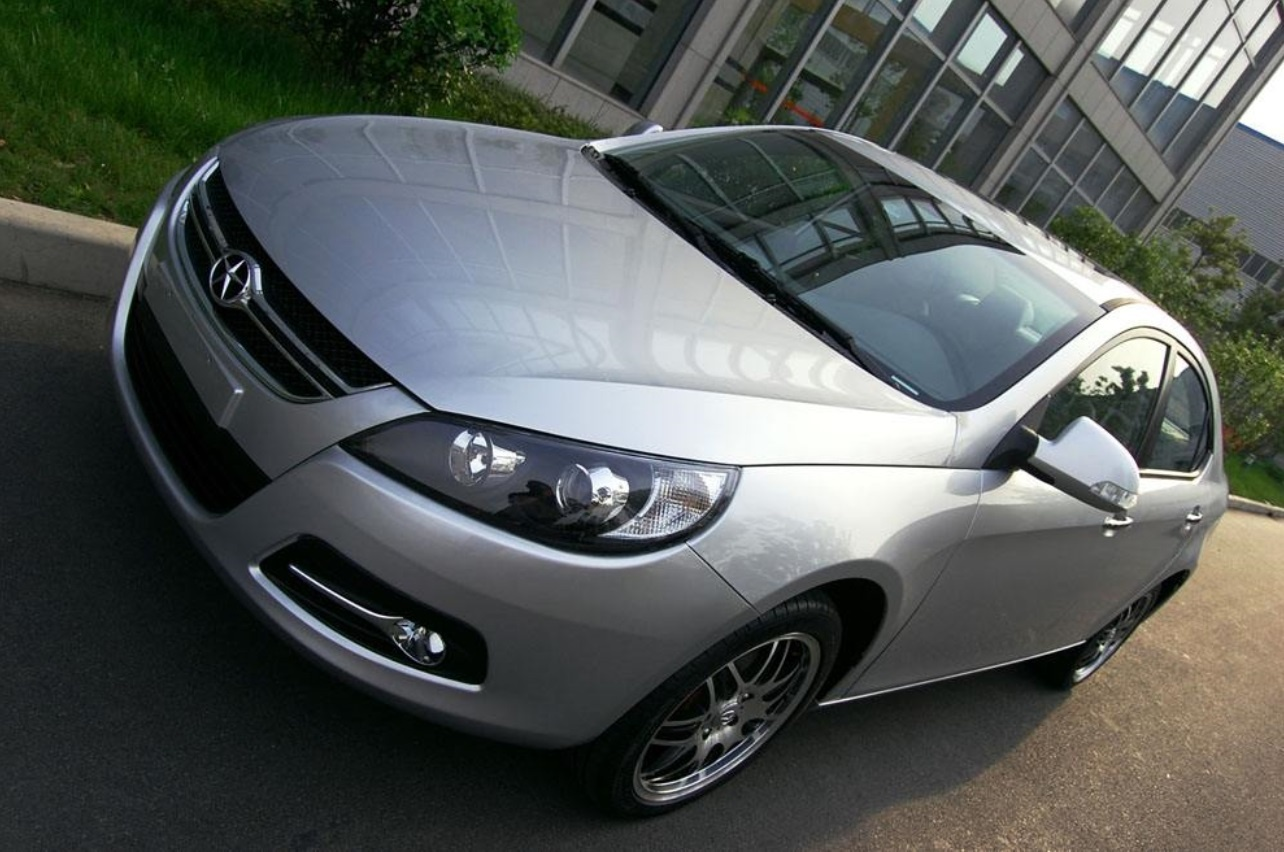family sedan: (120, 63, 1200, 808)
